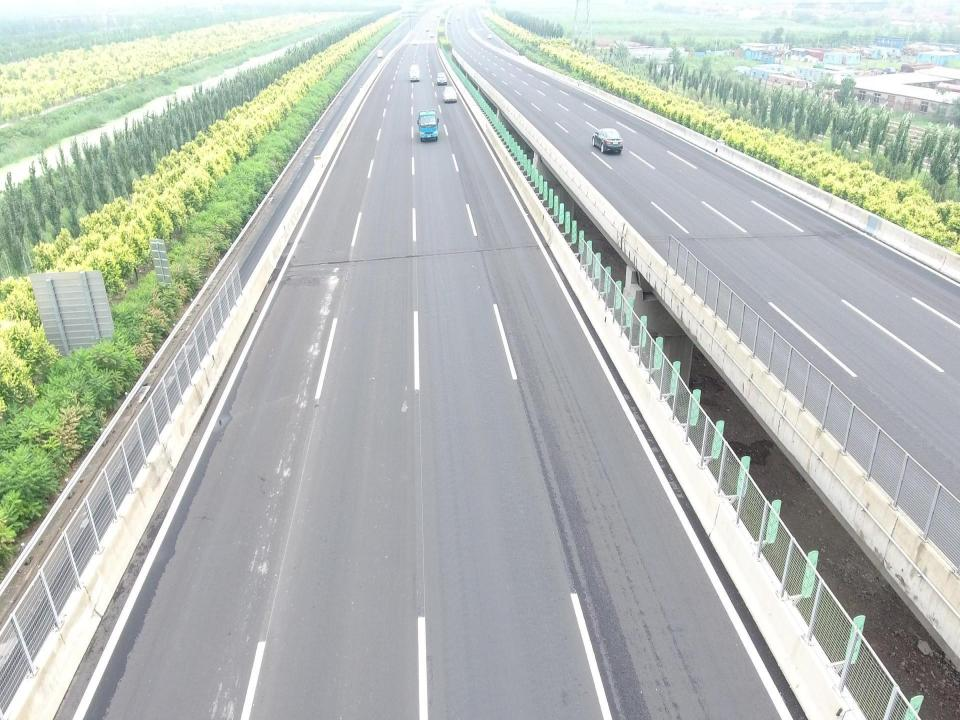car: (592, 127, 623, 153), (443, 86, 457, 103), (436, 72, 448, 86), (412, 38, 418, 44), (488, 34, 492, 40), (430, 32, 434, 37)
truck: (417, 109, 439, 142), (410, 64, 420, 81)
van: (377, 49, 383, 57)
